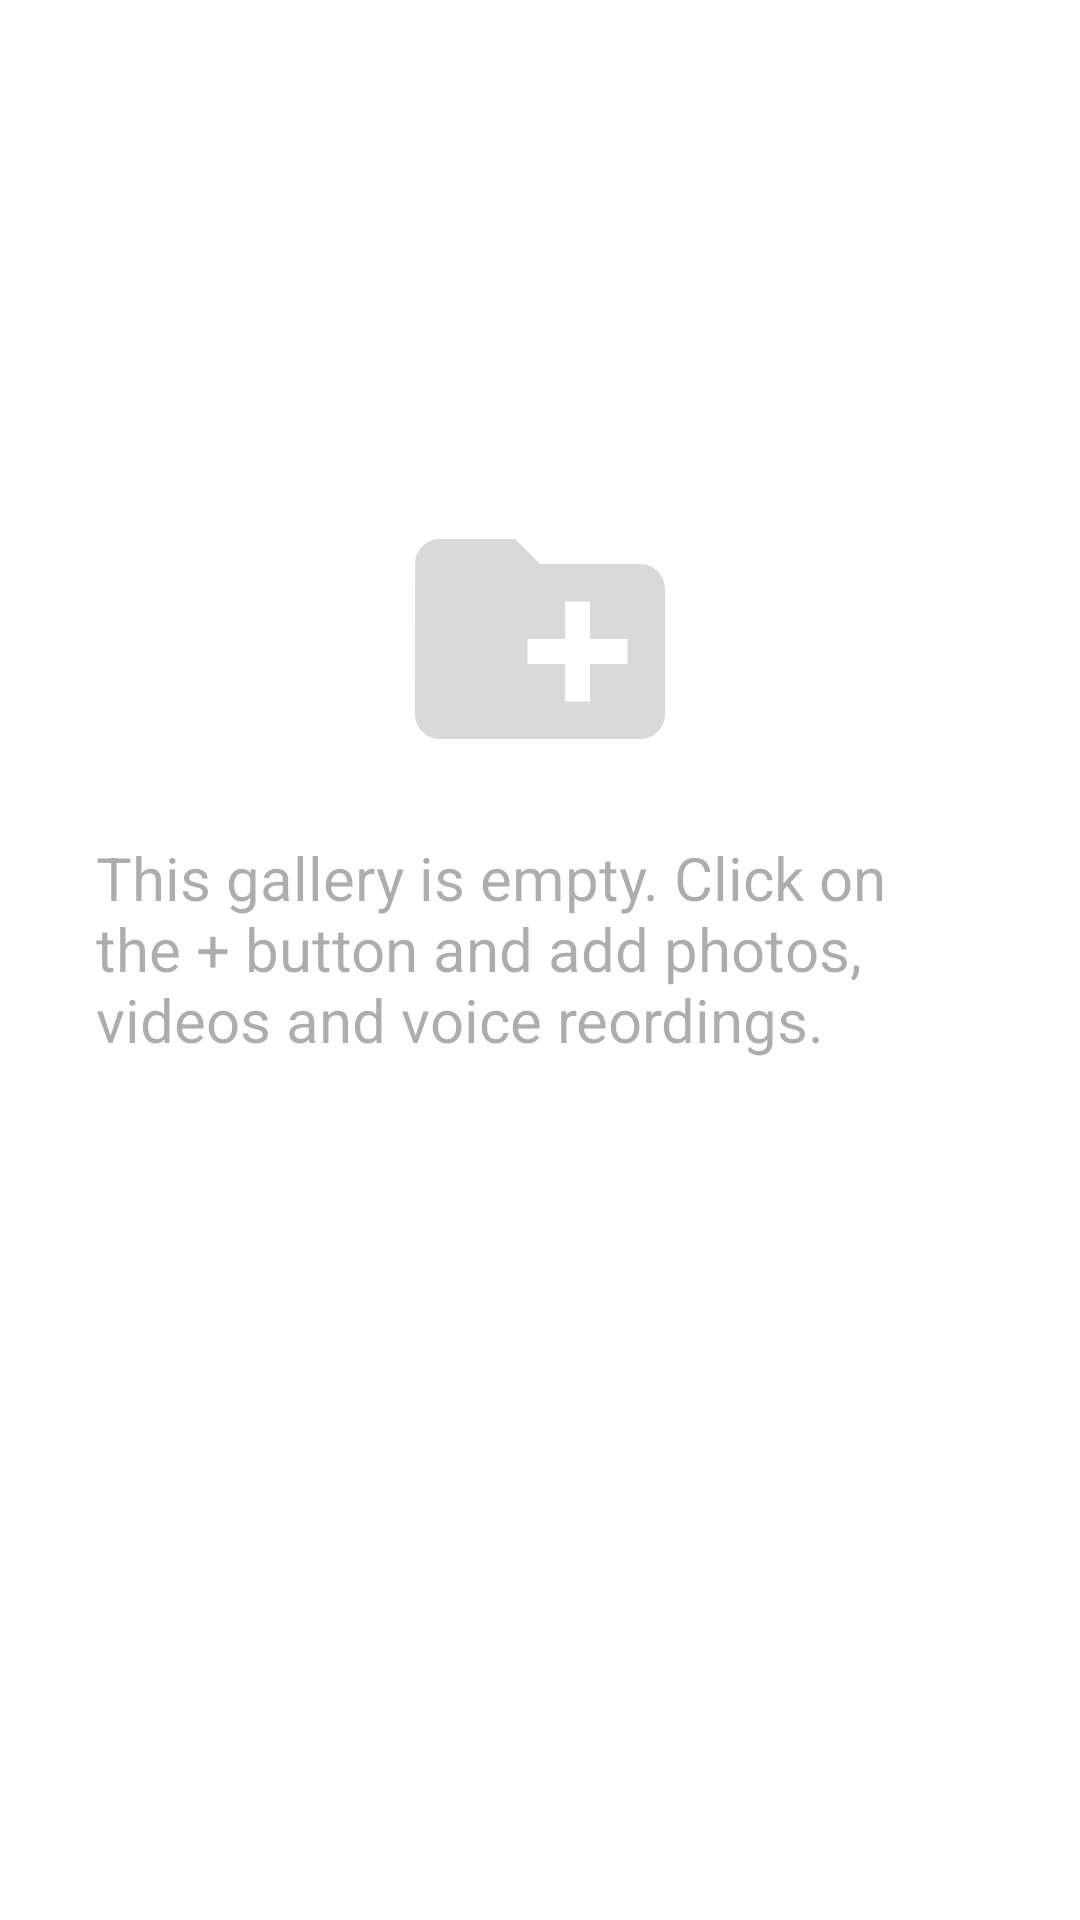

Icon click points for this 1080 × 1920 phone screenshot, format (x,y):
create folder: (540,639)
